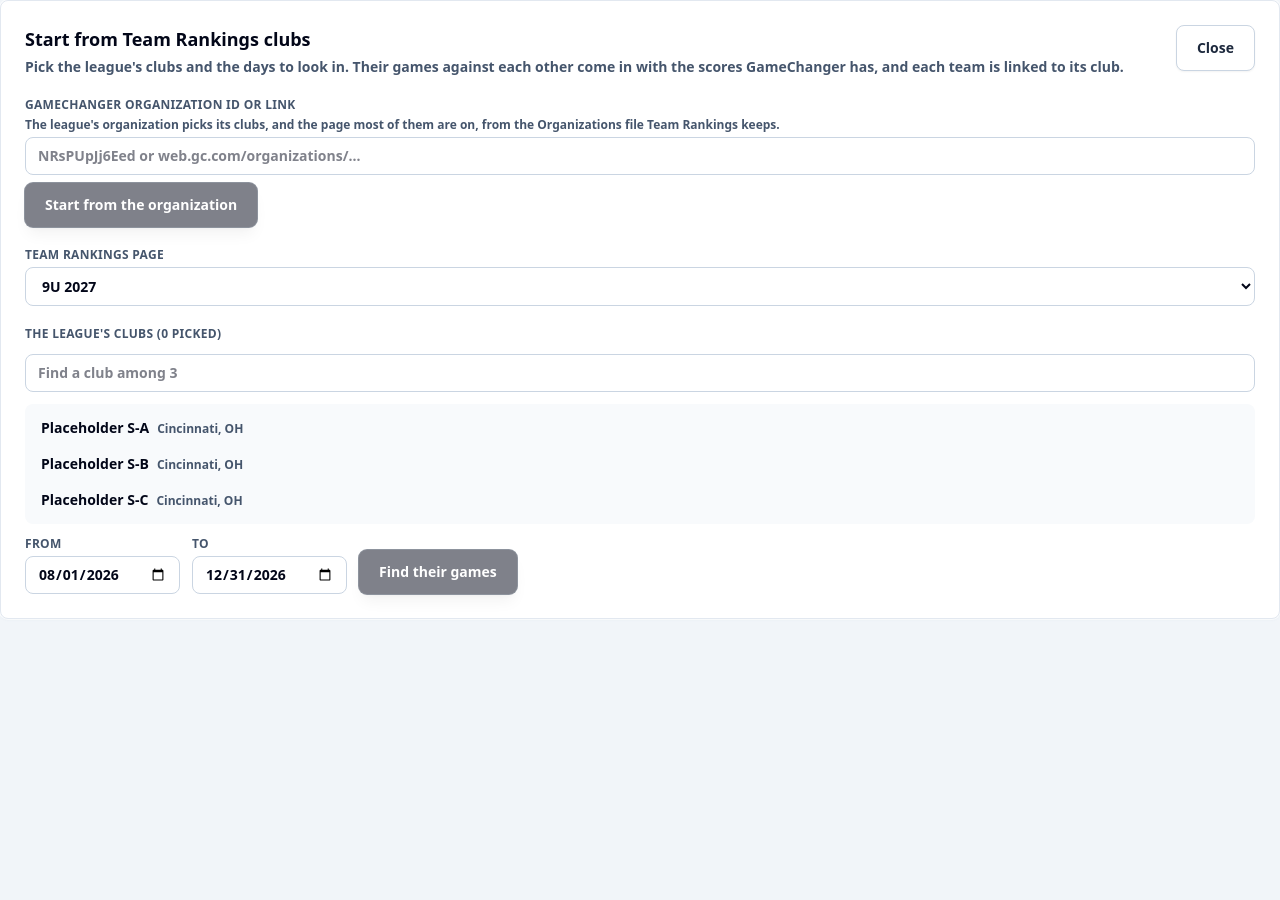
Test case: starting a season from its clubs on Team Rankings › starts again on another page, with nothing of the last one's picked
Click the button with aria-label "Add Placeholder S-A" at [95, 428], box 33,412 -> 1247,444
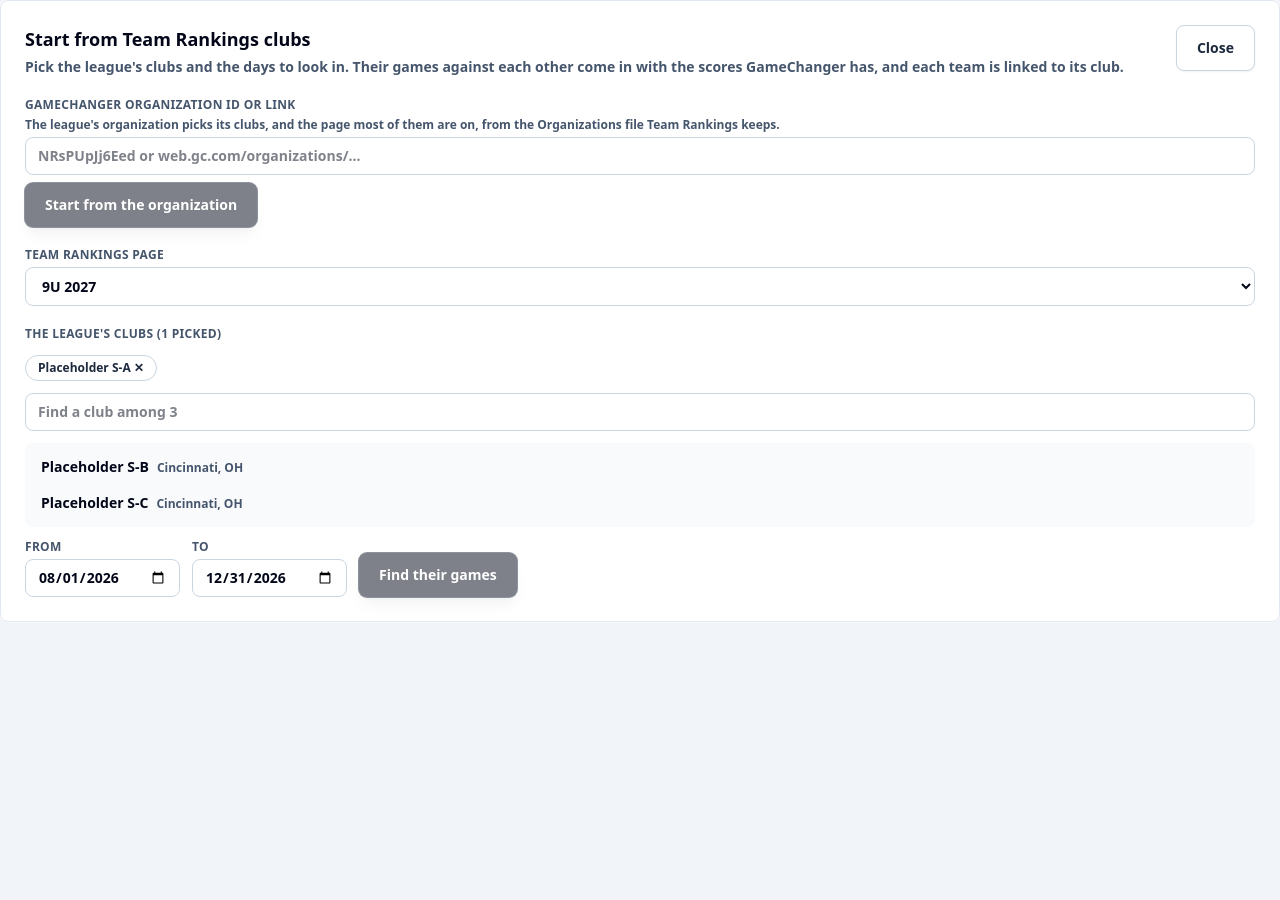
Select "10U 2027" in the dropdown labelled "Team Rankings page" at [640, 286], box 25,267 -> 1255,306
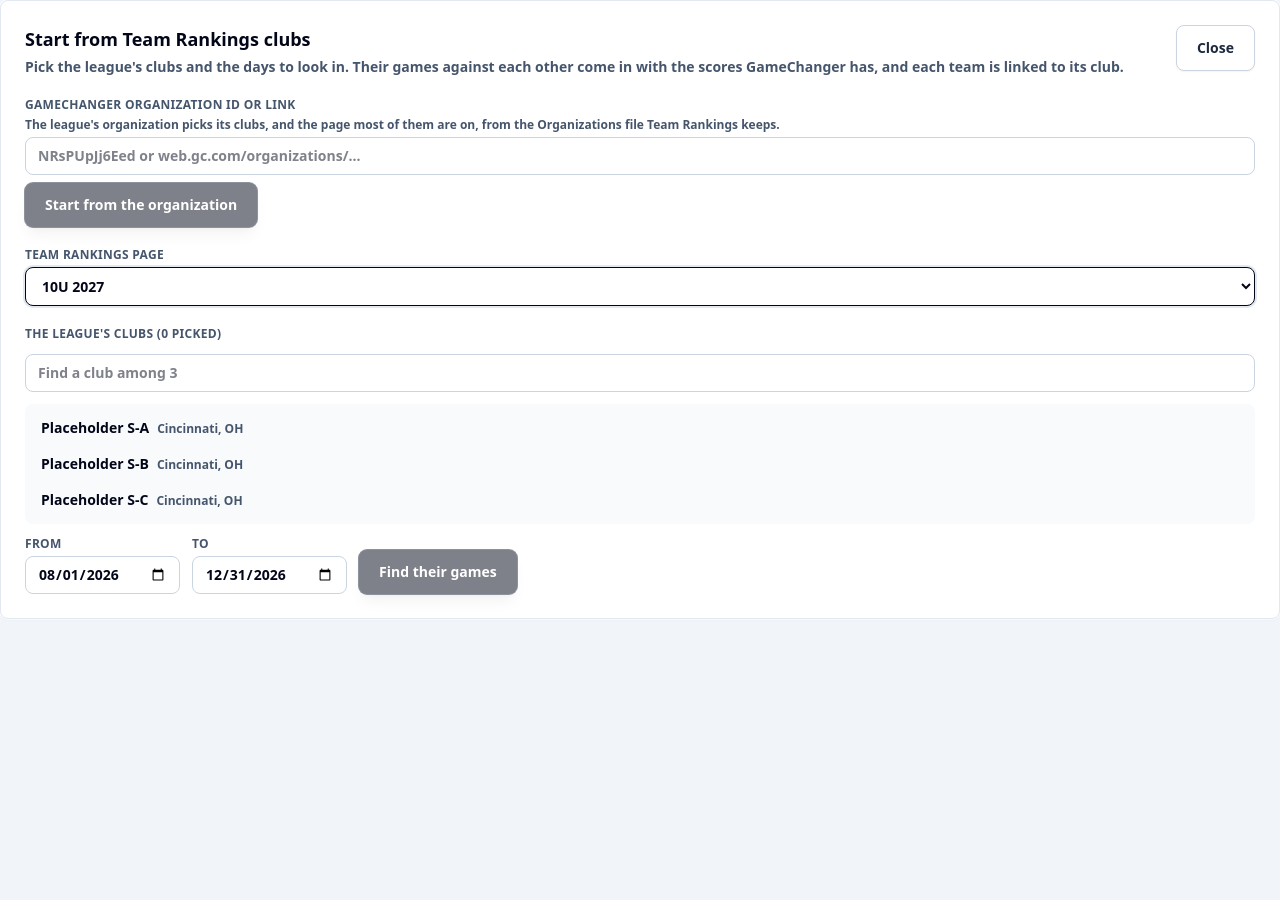
Expected: the button with aria-label "Add Placeholder S-A" is shown, 33,412 -> 1247,444
